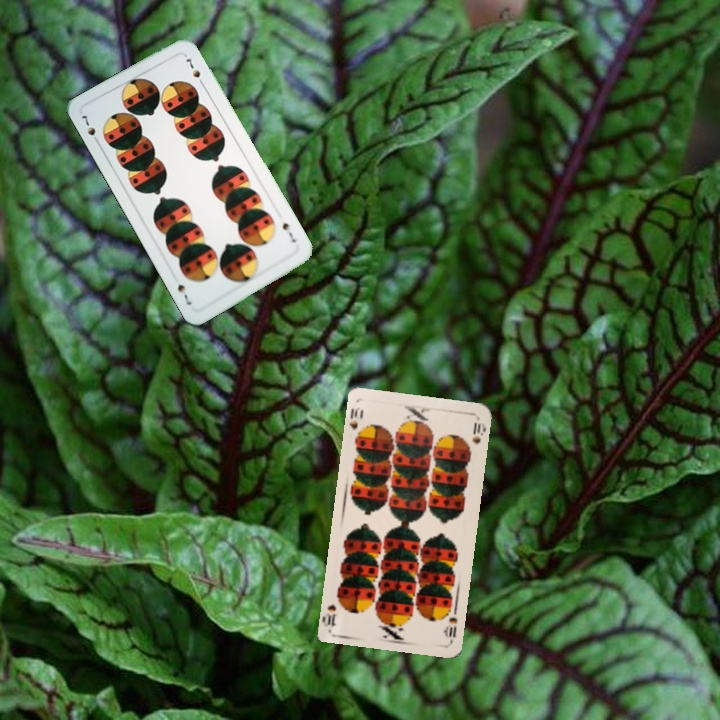S10: (346, 403, 366, 441), (441, 613, 460, 644)
S7: (77, 111, 102, 147), (278, 218, 299, 245)
